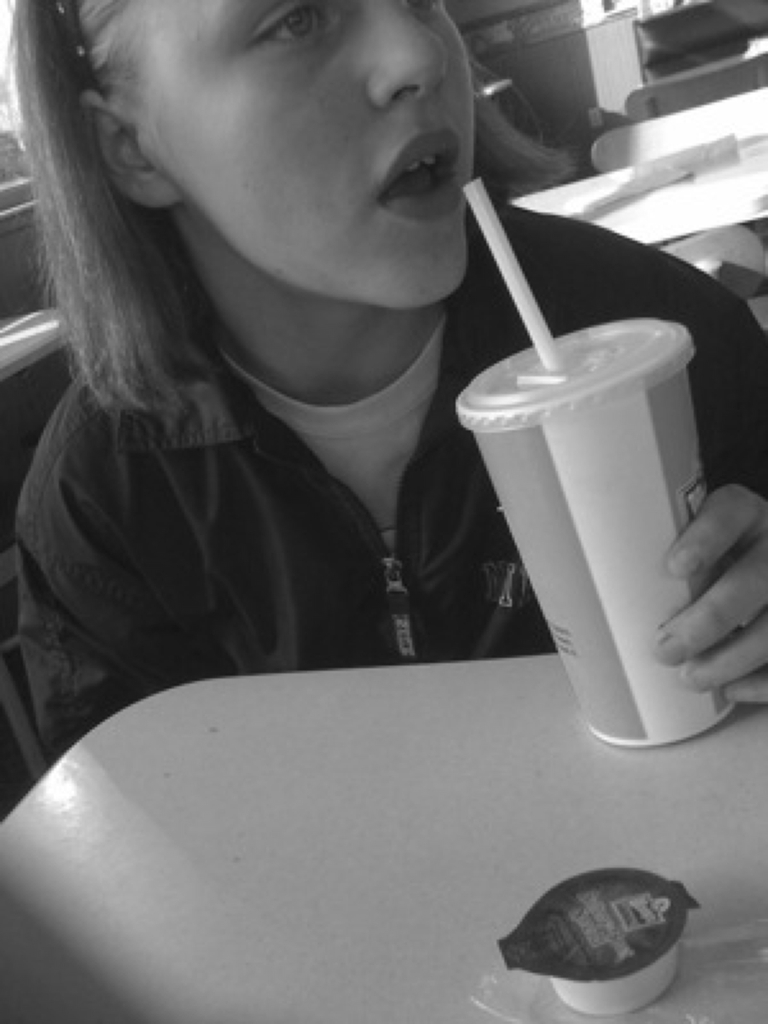face: (172, 0, 492, 312)
